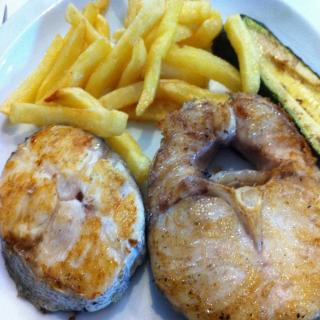French fries: (8, 12, 266, 176)
